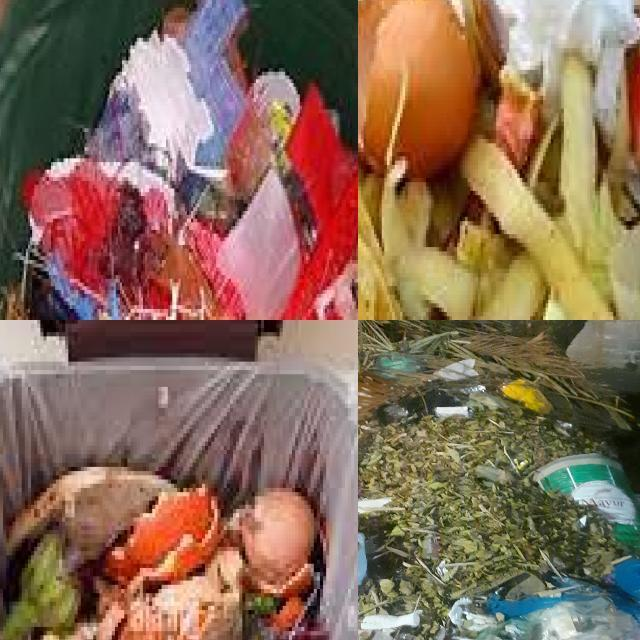Garbage: (0, 0, 358, 320), (358, 0, 640, 320), (358, 320, 640, 640), (5, 465, 325, 640)
Plastic: (4, 0, 358, 320), (472, 579, 640, 640)
Plastic_Bag: (533, 453, 640, 552), (378, 389, 464, 423), (500, 379, 554, 416), (374, 353, 426, 379), (613, 557, 640, 605), (369, 628, 395, 640)
Plastic_wraper: (420, 531, 441, 560)
Thermocol: (361, 609, 422, 630)
